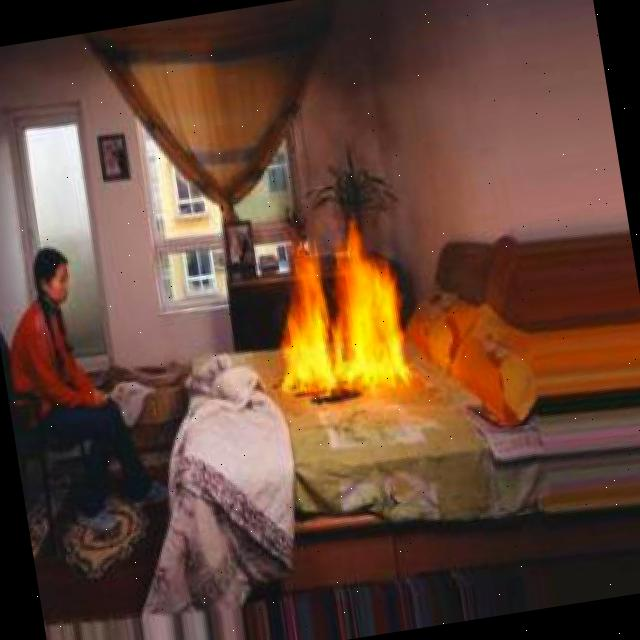fire: (262, 210, 421, 413)
